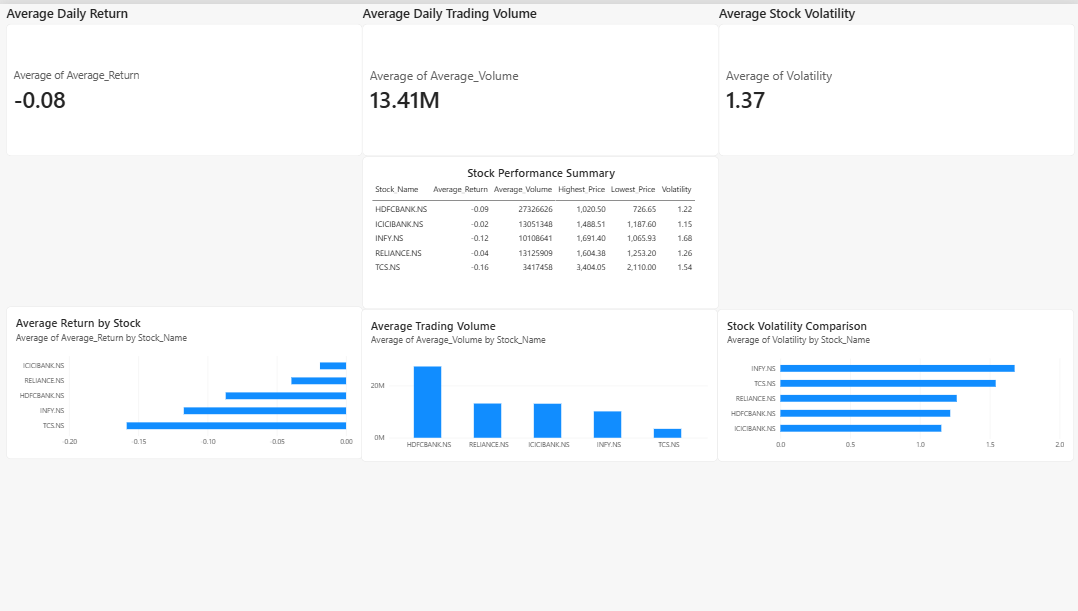

What the dashboard file says about the page in this screenshot:
{"tool":"powerbi","page":{"name":"Executive Dashboard","canvas":[1920,1080],"ordinal":0},"visuals":[{"type":"tableEx","title":"Stock Performance Summary","fields":{"Values":["vw_Stock_Performance.Stock_Name","vw_Stock_Performance.Average_Return","vw_Stock_Performance.Average_Volume","vw_Stock_Performance.Highest_Price","vw_Stock_Performance.Lowest_Price","vw_Stock_Performance.Volatility"]},"box":[644.4,271.1,633.3,271.1],"z":0},{"type":"clusteredBarChart","title":"Average Return by Stock","fields":{"Category":["vw_Stock_Performance.Stock_Name"],"Y":["Avg(vw_Stock_Performance.Average_Return)"]},"box":[11.1,537.8,633.3,271.1],"z":1000},{"type":"clusteredBarChart","title":"Stock Volatility Comparison","fields":{"Category":["vw_Stock_Performance.Stock_Name"],"Y":["Avg(vw_Stock_Performance.Volatility)"]},"box":[1275.6,542.2,633.3,271.1],"z":2000},{"type":"clusteredColumnChart","title":"Average Trading Volume","fields":{"Category":["vw_Stock_Performance.Stock_Name"],"Y":["Avg(vw_Stock_Performance.Average_Volume)"]},"box":[642.2,542.2,633.3,271.1],"z":3000},{"type":"cardVisual","title":"Average Daily Return","fields":{"Data":["Avg(vw_Stock_Performance.Average_Return)"]},"box":[11.1,0,633.3,271.1],"z":4000},{"type":"cardVisual","title":"Average Daily Trading Volume","fields":{"Data":["Avg(vw_Stock_Performance.Average_Volume)"]},"box":[644.4,0,633.3,271.1],"z":5000},{"type":"cardVisual","title":"Average Stock Volatility","fields":{"Data":["Avg(vw_Stock_Performance.Volatility)"]},"box":[1277.8,0,633.3,271.1],"z":6000}]}

Visuals, with their boxes in screenshot pixels (x1, y1, x2, y2), scaled from the page's 1920x1080 canvas onto the 1078x611 screenshot:
"Stock Performance Summary" tableEx: (362, 153, 717, 307)
"Average Return by Stock" clusteredBarChart: (6, 304, 362, 458)
"Stock Volatility Comparison" clusteredBarChart: (716, 307, 1072, 460)
"Average Trading Volume" clusteredColumnChart: (361, 307, 716, 460)
"Average Daily Return" cardVisual: (6, 0, 362, 153)
"Average Daily Trading Volume" cardVisual: (362, 0, 717, 153)
"Average Stock Volatility" cardVisual: (717, 0, 1073, 153)
